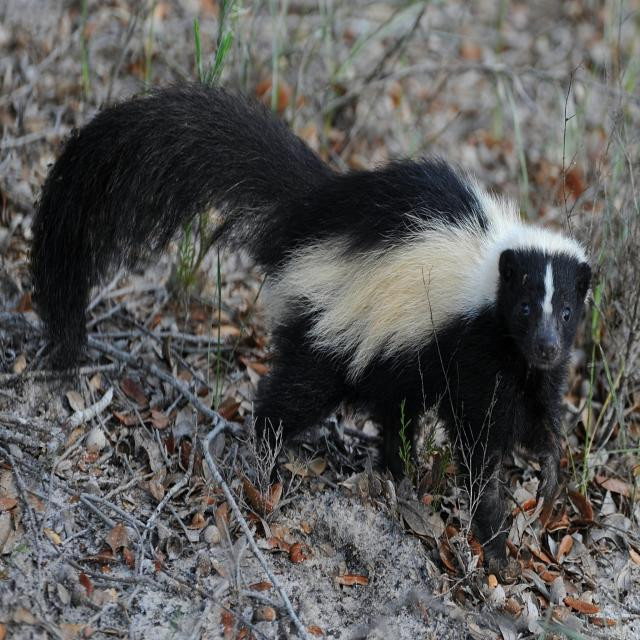Skunk: (24, 31, 628, 442)
